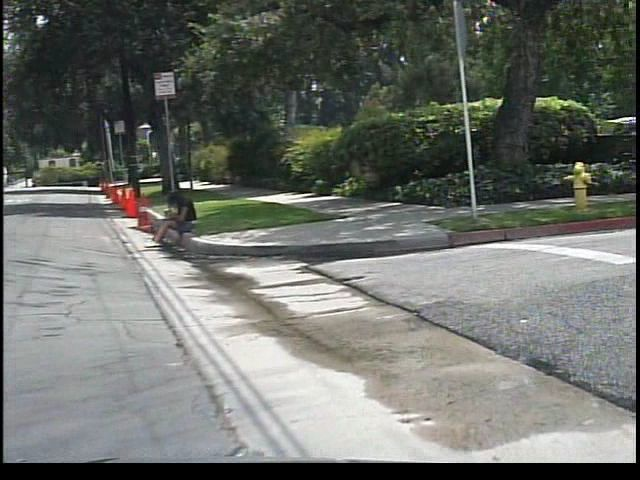person: (151, 188, 209, 249)
